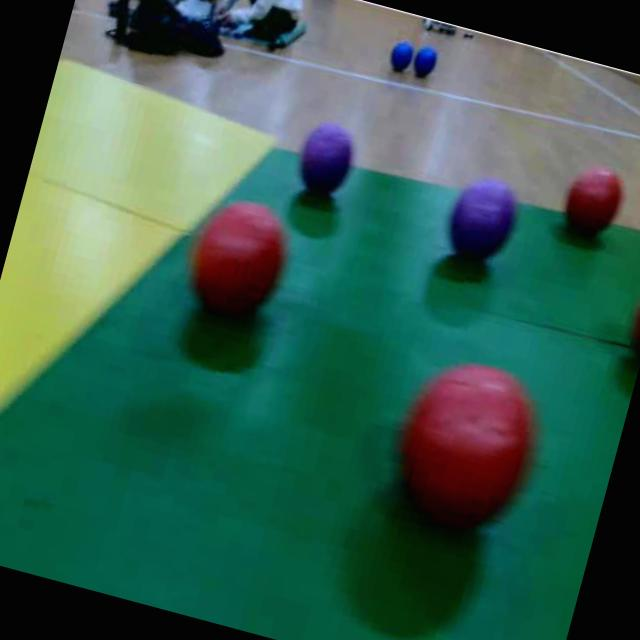blue_ball: (408, 39, 442, 86), (383, 38, 419, 79)
purple_ball: (432, 166, 528, 282), (284, 117, 362, 209)
red_ball: (369, 342, 563, 565), (169, 188, 301, 340), (558, 160, 628, 245), (614, 265, 640, 378)
